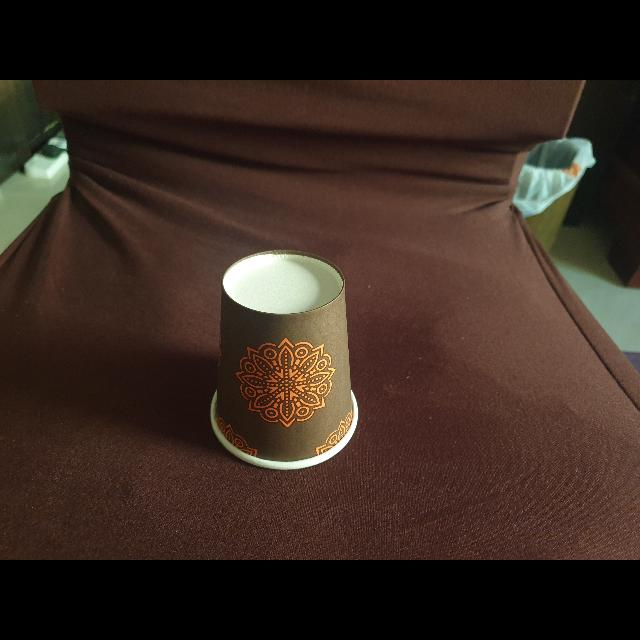trash: (206, 249, 364, 471)
